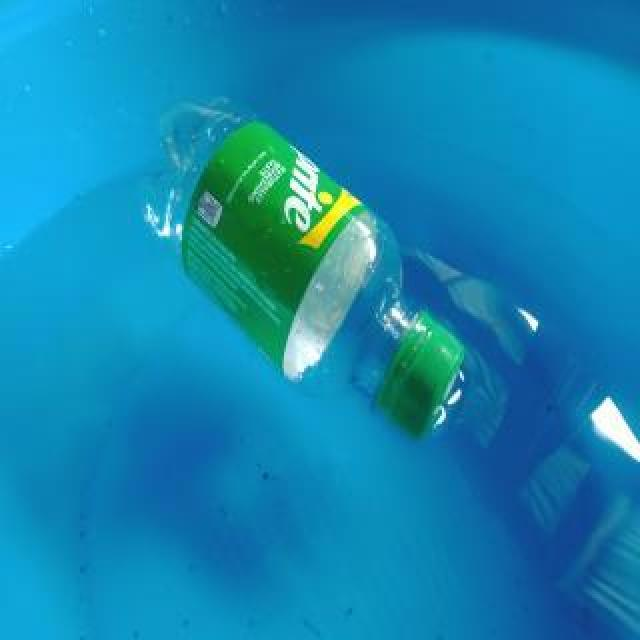bottle: (136, 88, 468, 440)
